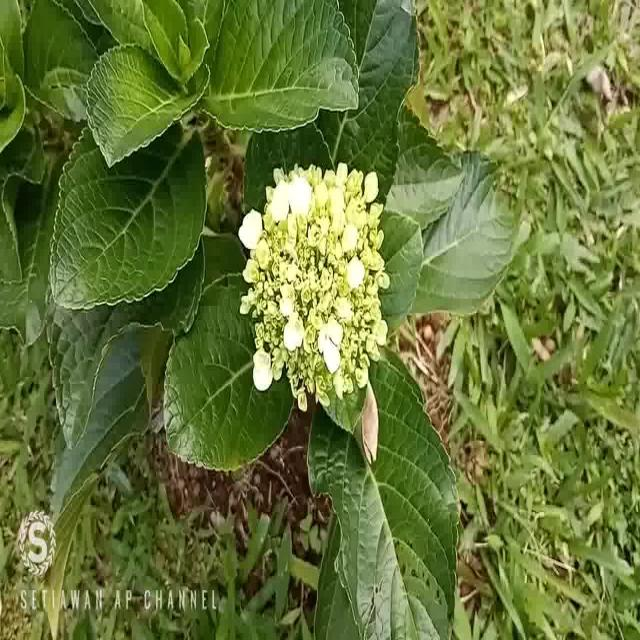Flower: (239, 161, 396, 411)
